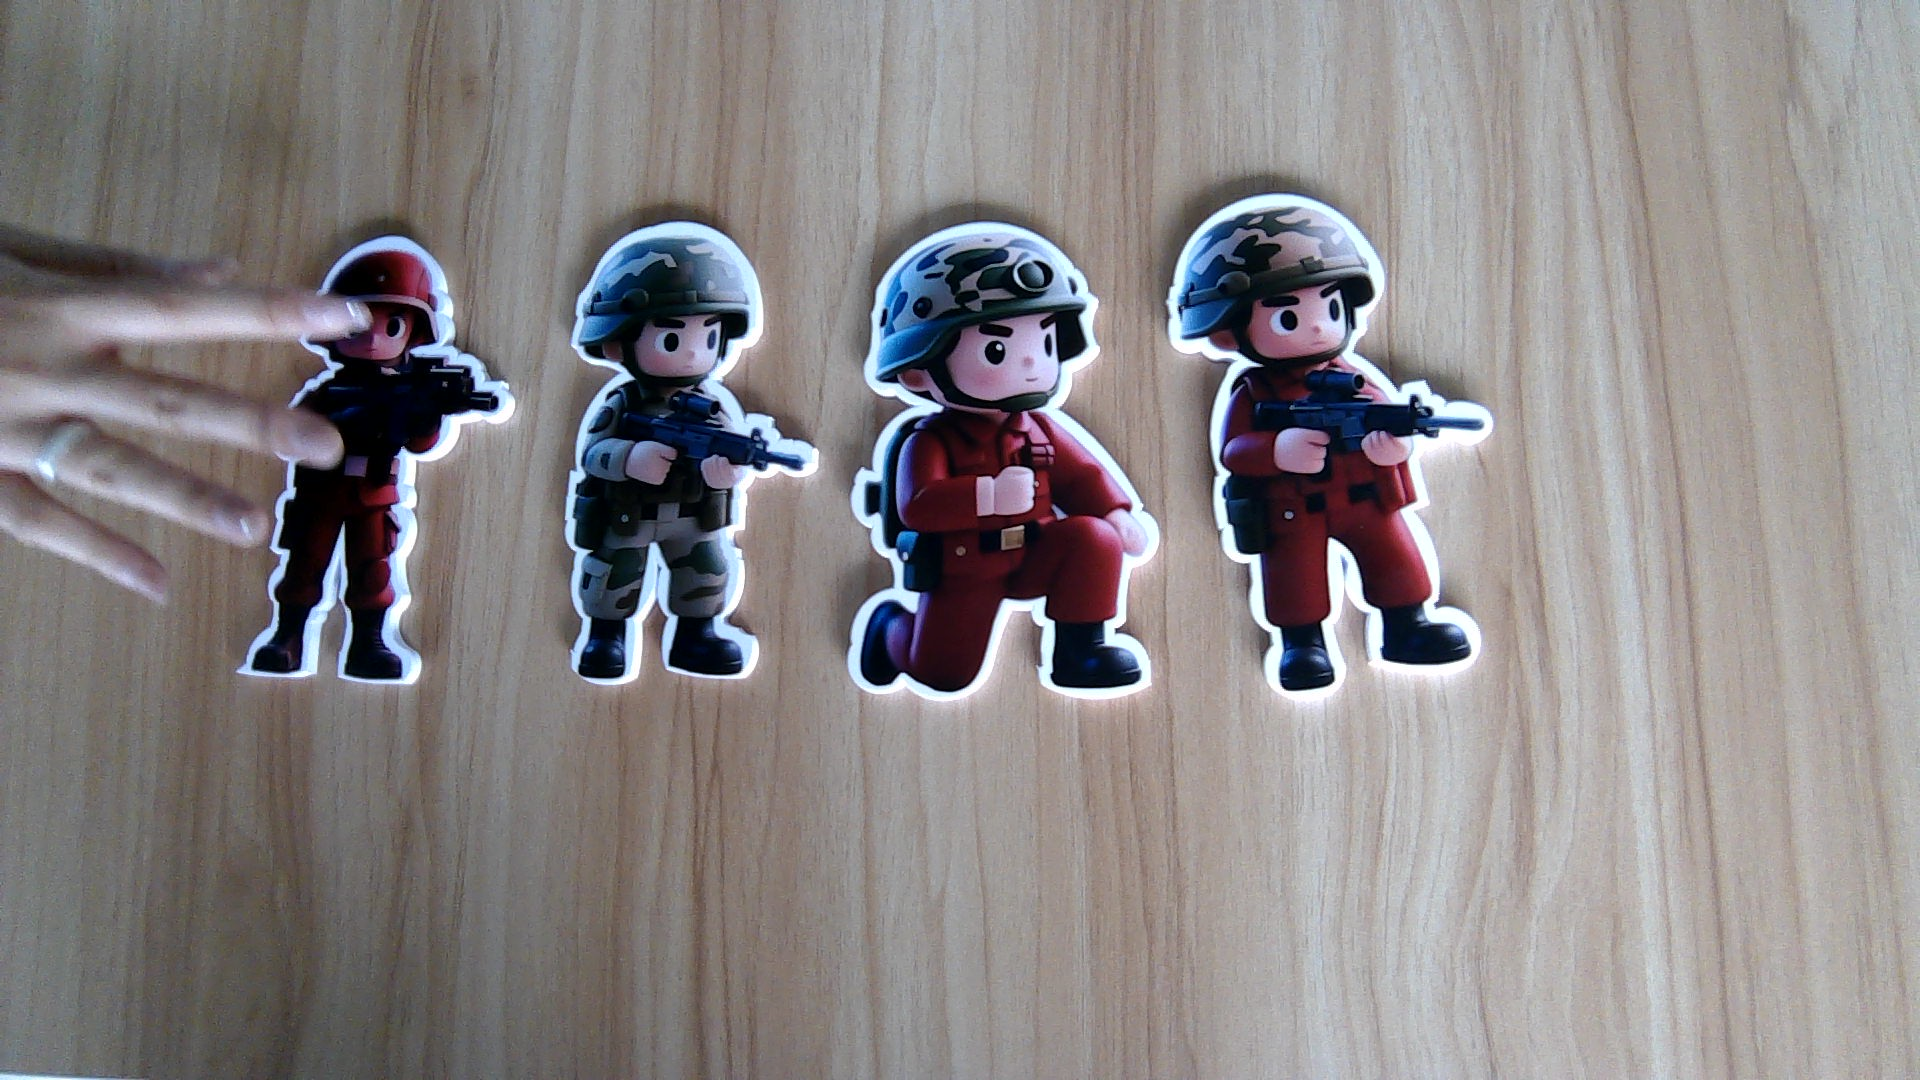友军: (556, 375, 806, 694)
敌人1: (1193, 367, 1502, 705), (233, 353, 518, 684), (845, 405, 1160, 702)
